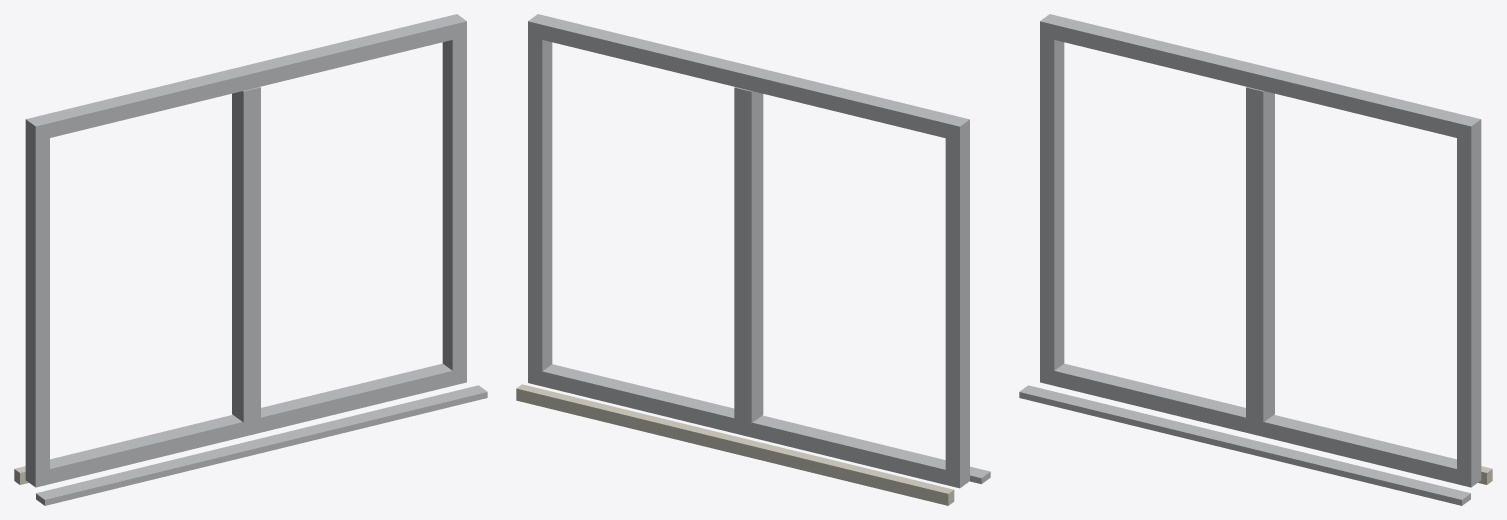
The model's file is window_modern.glb.
The picture shows the model from 3 angles, left to right: view 1: azimuth 30°, elevation 25°; view 2: azimuth 150°, elevation 25°; view 3: azimuth 330°, elevation 25°; orthographic projection.
Parts seen in each view (by area): view 1: window_modern; view 2: window_modern; view 3: window_modern.
Boxes of the visible parts, bbox=[...] form: window_modern: bbox=[14, 14, 487, 505]; window_modern: bbox=[516, 14, 990, 505]; window_modern: bbox=[1019, 14, 1492, 505].
Size of the model in its own units: 1.54 by 1.23 by 0.22.
Materials: 1 (1 with a texture image).
